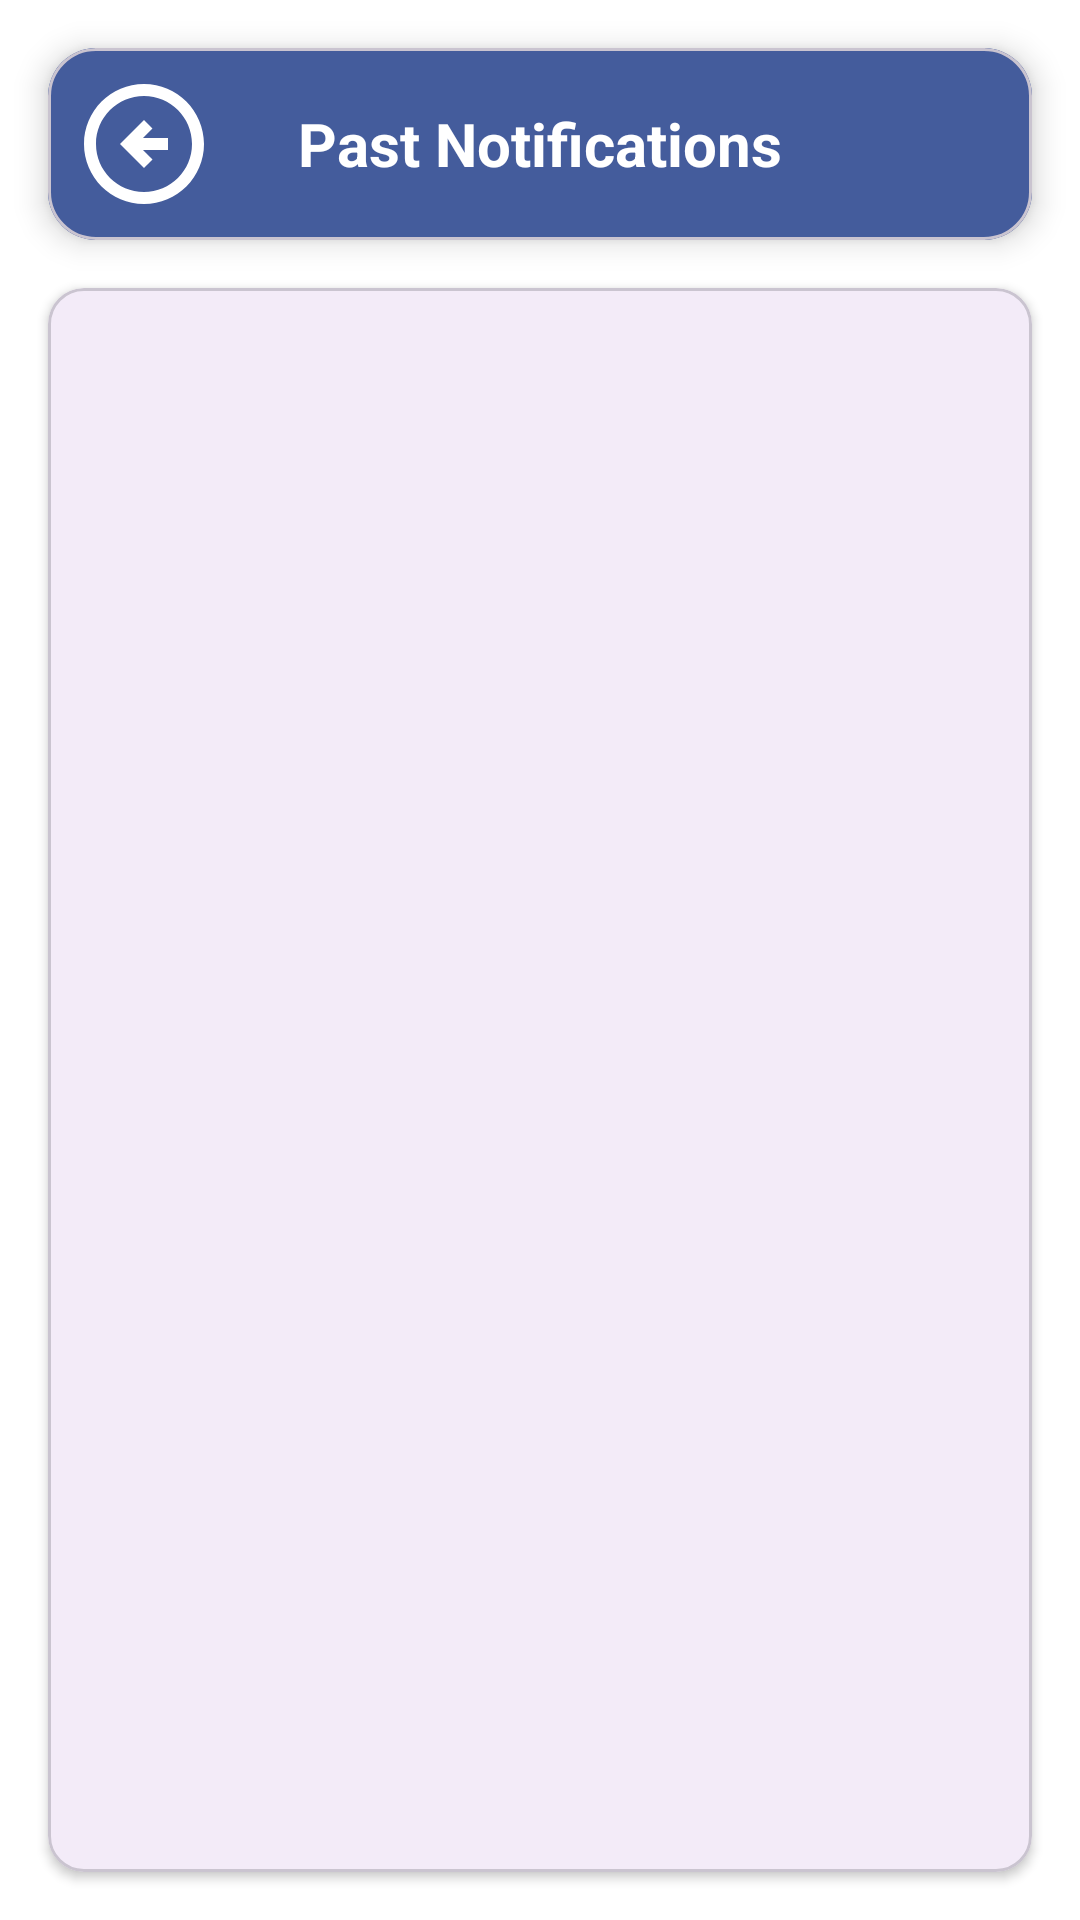

Icon bounding boxes for this 1080 × 1920 phone screenshot, format {"x1": x1, "y1": y1, "x2": x2, "y2": y2}:
Go Back: {"x1": 84, "y1": 84, "x2": 204, "y2": 204}
